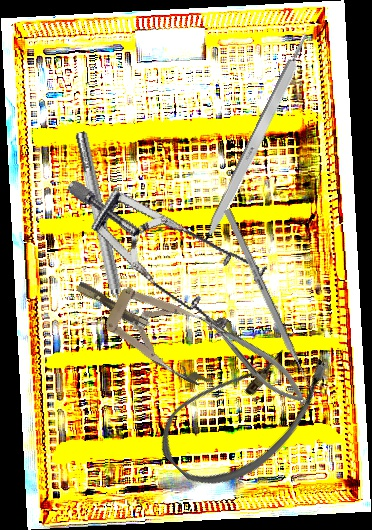Cannula: (146, 311, 345, 511)
Fixation Ring: (66, 128, 141, 336)
Needle Holder: (199, 305, 314, 415)
Pusher: (222, 207, 318, 399)
Scalpel Handle: (200, 29, 317, 246)
Speculum: (64, 123, 286, 368), (62, 252, 244, 393)
